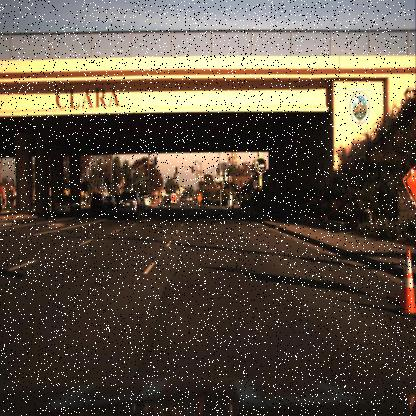car: (116, 189, 144, 226), (52, 190, 81, 217), (88, 187, 109, 214), (161, 190, 178, 206)
